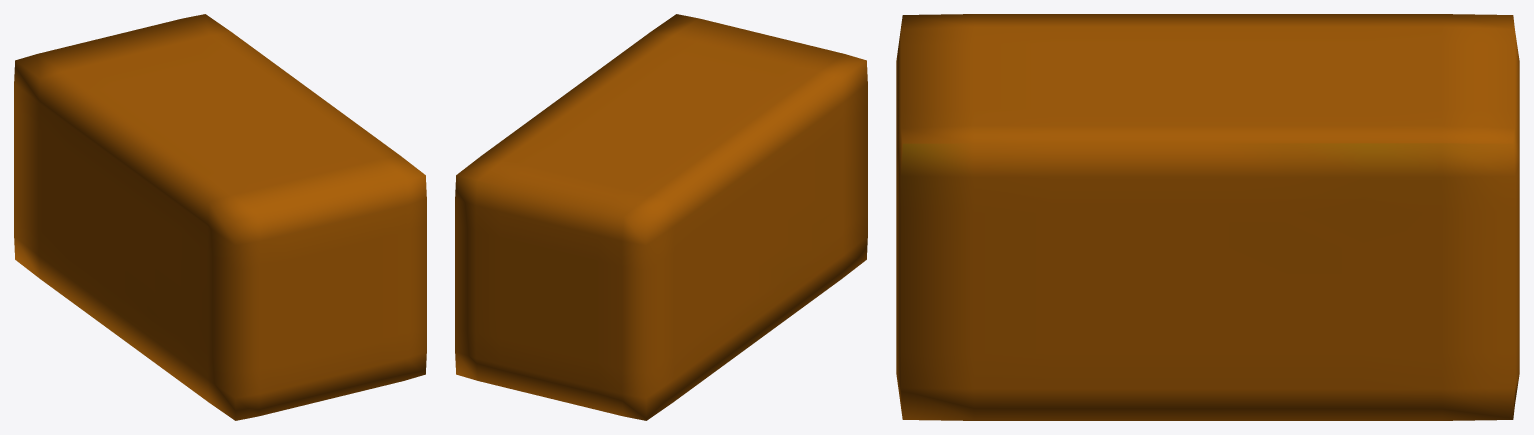
The model's file is BlockUnbreakable.fbx.
3 renders of one model, left to right at view 1: azimuth 30°, elevation 25°; view 2: azimuth 150°, elevation 25°; view 3: azimuth 270°, elevation 25°, orthographic. The views are drawn at different scales.
Parts seen in each view (by area): view 1: Cube; view 2: Cube; view 3: Cube.
Part boxes in pixels (left/top/right/bottom): Cube: left=14, top=14, right=426, bottom=420; Cube: left=455, top=14, right=867, bottom=420; Cube: left=896, top=14, right=1519, bottom=420.
Size of the model in its own units: 0.9923 by 0.9926 by 1.99.
